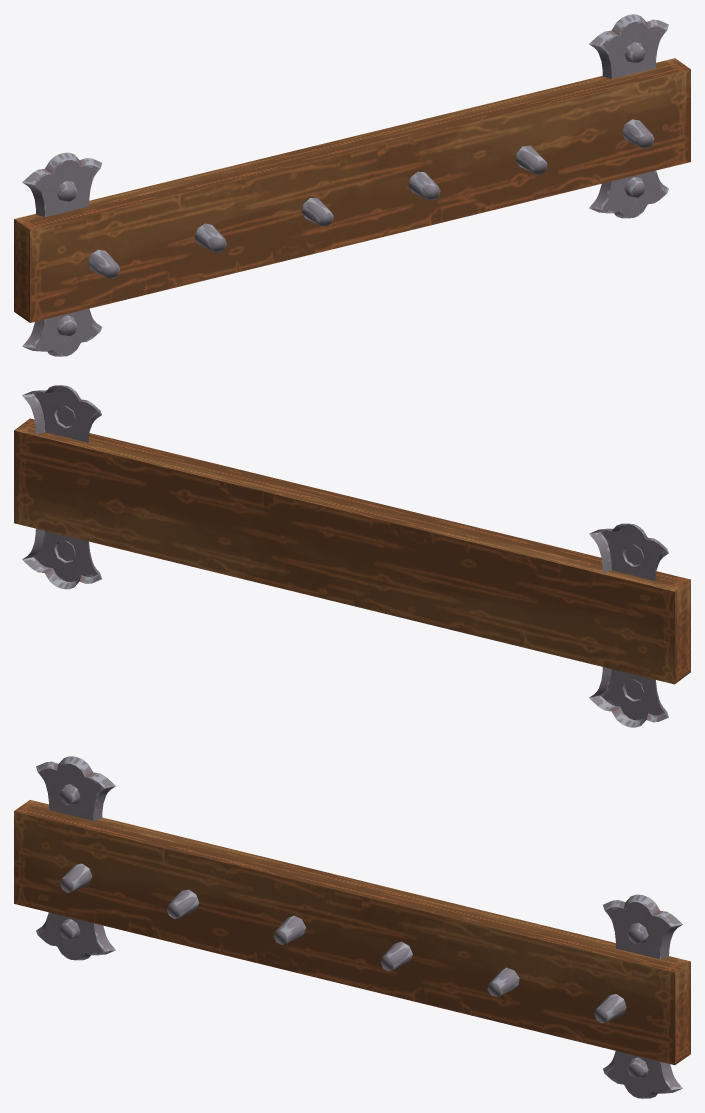
The model's file is Peg_Rack.gltf.
3 views of the same model, one above another, from view 1: azimuth 30°, elevation 25°; view 2: azimuth 150°, elevation 25°; view 3: azimuth 330°, elevation 25° (orthographic).
Visible parts, largest first — view 1: Peg_Rack; view 2: Peg_Rack; view 3: Peg_Rack.
Boxes of the visible parts, bbox=[...] form: Peg_Rack: bbox=[14, 14, 690, 356]; Peg_Rack: bbox=[14, 385, 690, 727]; Peg_Rack: bbox=[14, 756, 690, 1098].
Bounding box in the file's own units: 1.18 × 0.3479 × 0.0957.
Materials: 2 (2 with a texture image).
